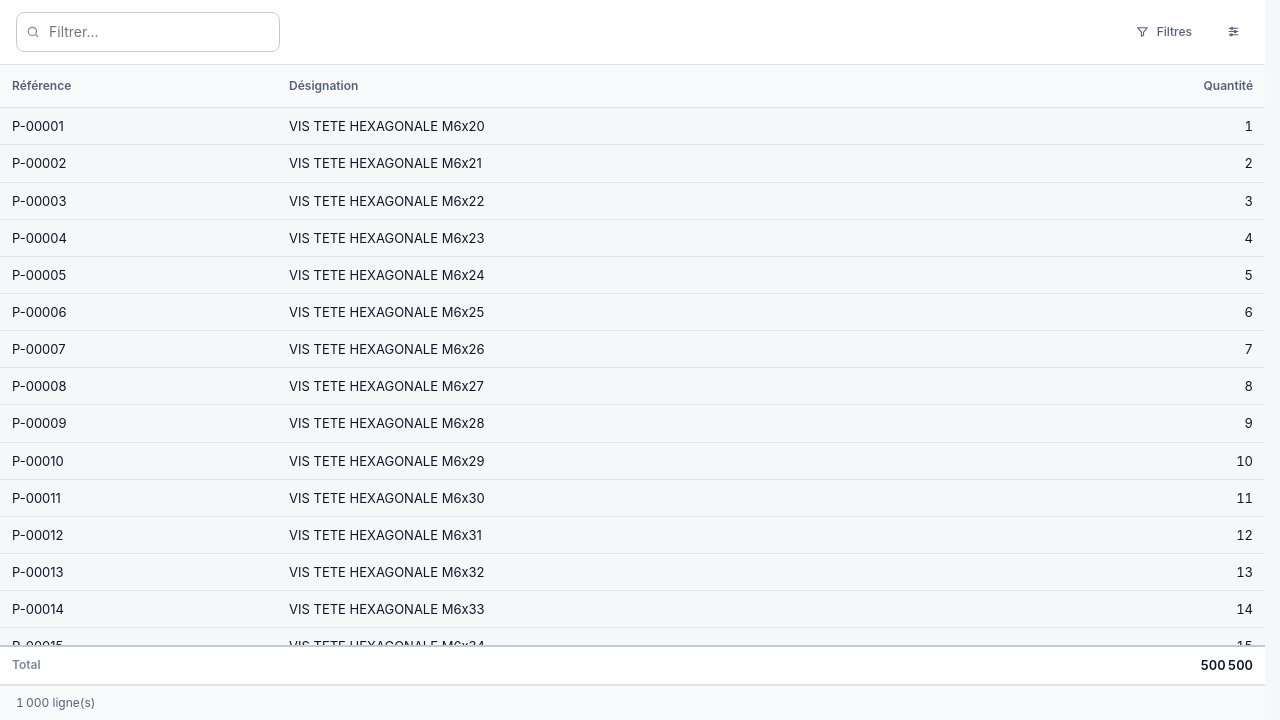
Test: le tri porte sur toutes les lignes, pas sur celles qu’on voit › trier à l’envers ramène la dernière ligne en tête
Step 1. Click the column heading "Référence" → coordinates (139, 86), box top-left (0, 65), bottom-right (277, 108)
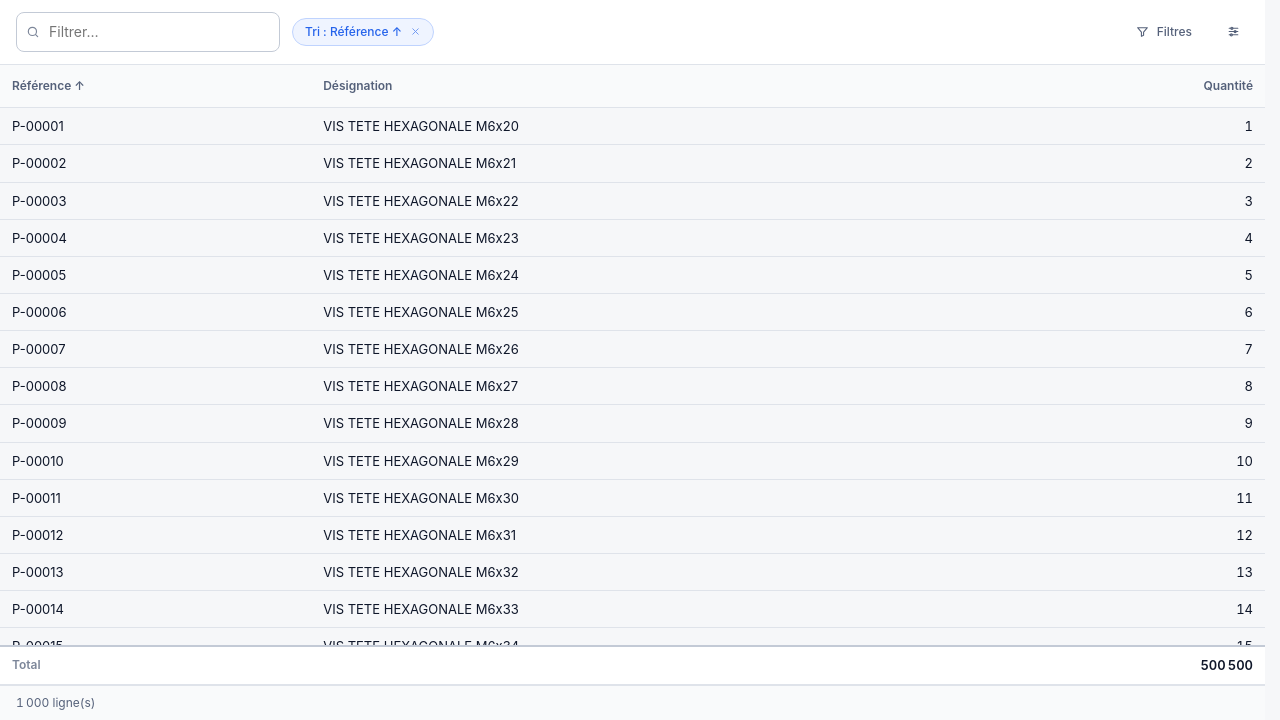
Step 2. Click the column heading "Référence ↑" → coordinates (156, 86), box top-left (0, 65), bottom-right (311, 108)
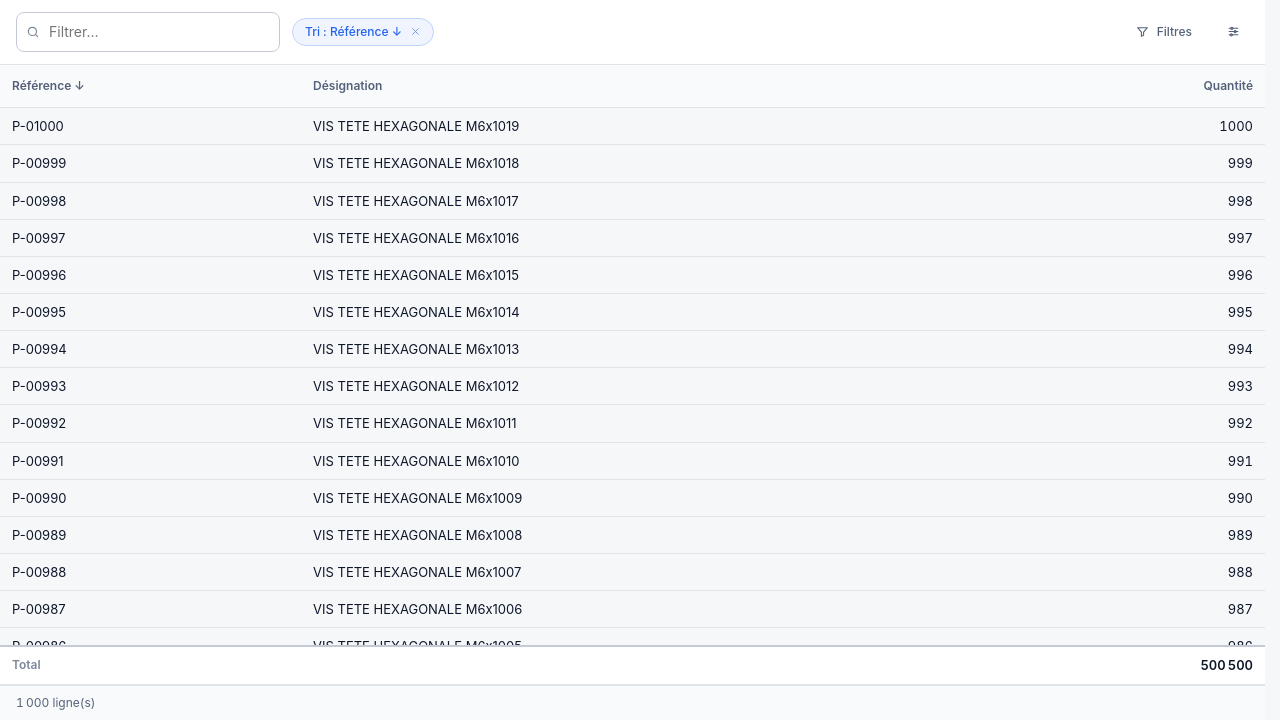
Check: the text "P-01000" is shown, box top-left (0, 108), bottom-right (301, 145)
